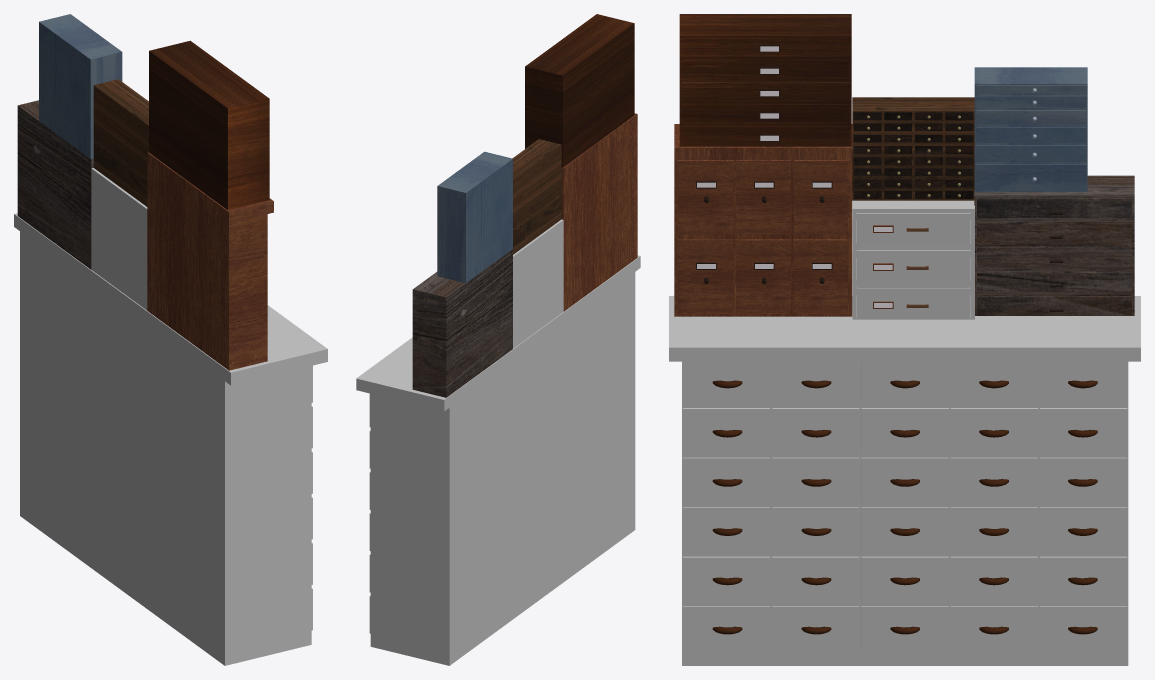
The model's file is cabinet_all_boxes 1.fbx.
The picture shows the model from 3 angles, left to right: view 1: azimuth 30°, elevation 25°; view 2: azimuth 150°, elevation 25°; view 3: azimuth 270°, elevation 25°; orthographic projection. The views are drawn at different scales.
Parts seen in each view (by area): view 1: cabinet1, cabinet3; view 2: cabinet1, cabinet3; view 3: cabinet3, box_1_4_3, cabinet1, box_1_1_3, box_1_1_5, box_1_1_2, box_1_1_4, box_1_1_1.
Part boxes in pixels (bbox=[...]): cabinet1: bbox=[14, 213, 327, 665]; cabinet3: bbox=[17, 14, 273, 370]; cabinet1: bbox=[356, 255, 640, 665]; cabinet3: bbox=[412, 14, 637, 397]; cabinet3: bbox=[674, 14, 1134, 319]; box_1_4_3: bbox=[683, 408, 1127, 651]; cabinet1: bbox=[669, 296, 1140, 665]; box_1_1_3: bbox=[861, 361, 948, 404]; box_1_1_5: bbox=[1040, 361, 1127, 404]; box_1_1_2: bbox=[772, 361, 859, 404]; box_1_1_4: bbox=[950, 361, 1037, 404]; box_1_1_1: bbox=[683, 361, 769, 404].
Size of the model in its own units: 31.9 by 175 by 123.
